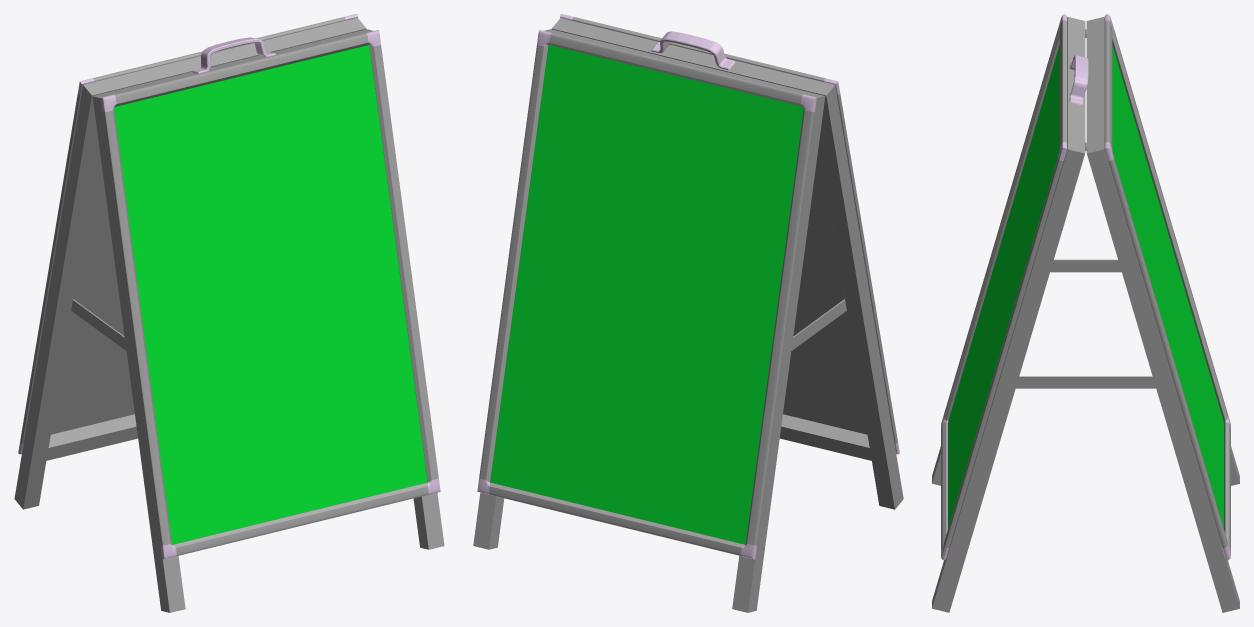
File: sign_stand.fbx
The picture shows the model from 3 angles, left to right: view 1: azimuth 30°, elevation 25°; view 2: azimuth 150°, elevation 25°; view 3: azimuth 270°, elevation 25°; orthographic projection.
Parts seen in each view (by area): view 1: sign_stand; view 2: sign_stand; view 3: sign_stand.
Part boxes in pixels (x1=…): sign_stand: x1=14, y1=14, x2=444, y2=612; sign_stand: x1=473, y1=14, x2=903, y2=612; sign_stand: x1=932, y1=14, x2=1239, y2=612.
Bounding box in the file's own units: 61.64 × 103 × 59.86.
